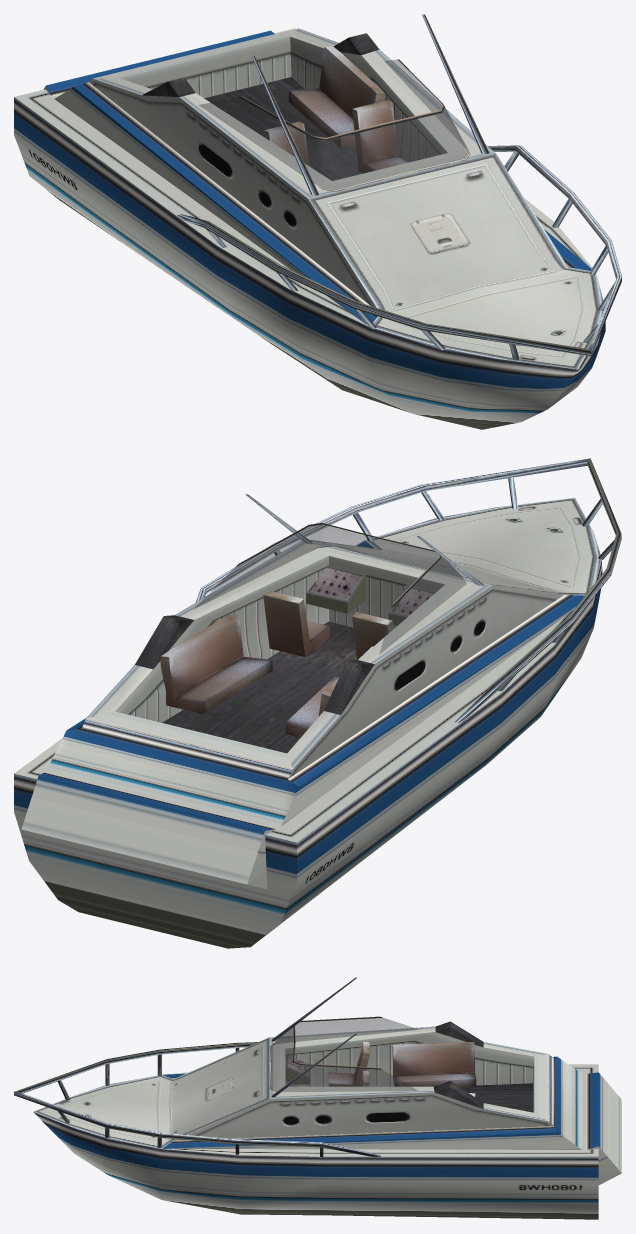
The model's file is DDSB01.glb.
The picture shows the model from 3 angles, top to bottom: view 1: azimuth 30°, elevation 25°; view 2: azimuth 150°, elevation 25°; view 3: azimuth 270°, elevation 25°; orthographic projection. The views are drawn at different scales.
Visible parts, largest first — view 1: _DDSB01; view 2: _DDSB01; view 3: _DDSB01.
Part boxes in pixels (x1,y1,x2,y2): _DDSB01: (14,14,621,429); _DDSB01: (14,458,621,948); _DDSB01: (14,977,621,1219).
Size of the model in its own units: 5.1 by 4.76 by 12.58.
2 materials, 2 textured.
